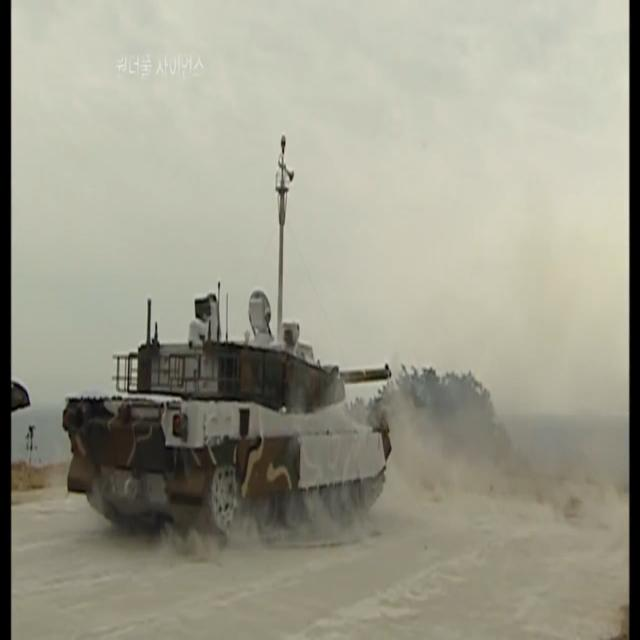korea tank: (63, 288, 393, 555)
